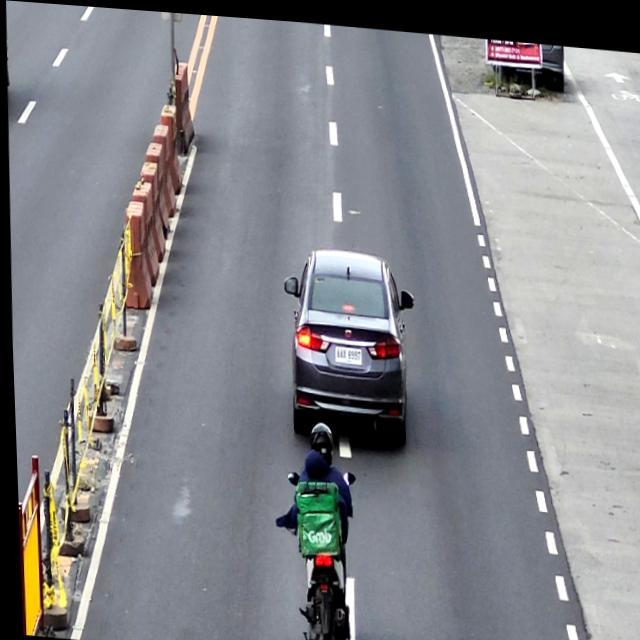Car: (278, 240, 416, 450)
License-Plate: (332, 341, 360, 361)
Motorcycle: (279, 460, 358, 640)
